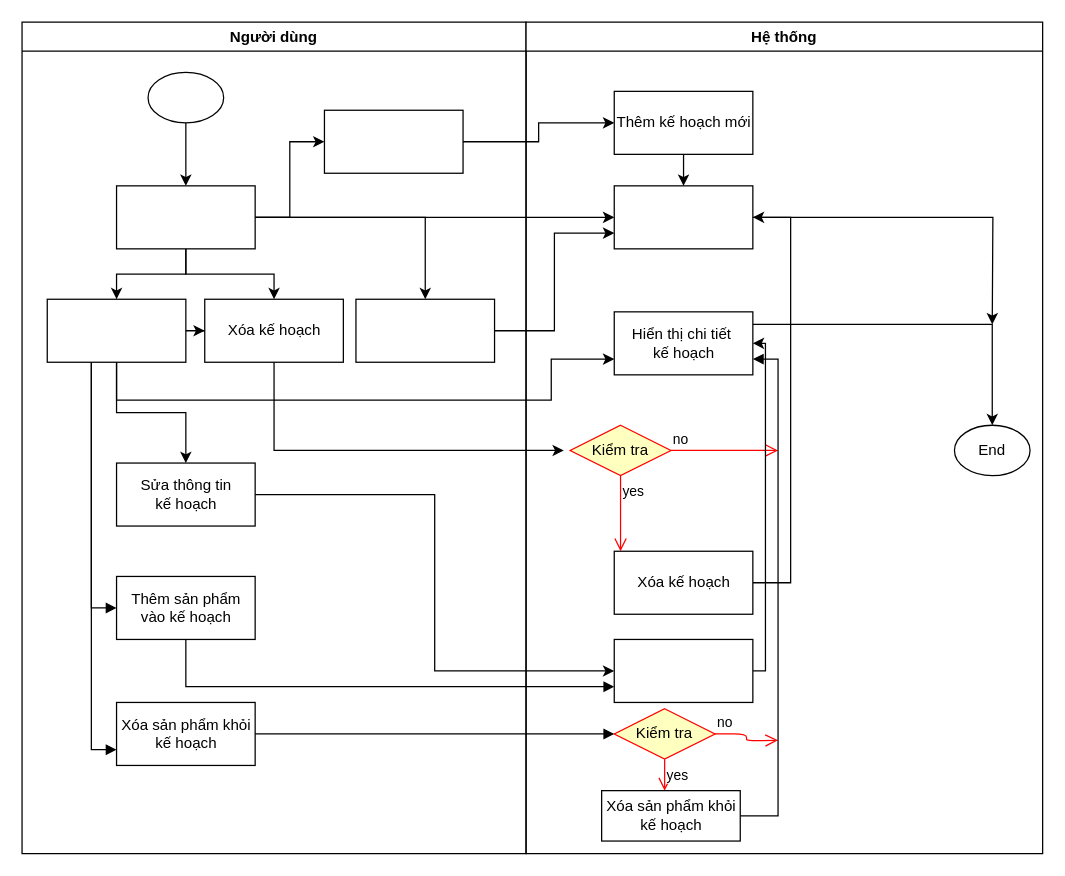
Some shapes in this 1065 by 876 pixel diagram are drawn without their labels. The shapes that lost their labels are listed below. From the top down, each one's centre as x and y in pixels, then its label:
pixel 185 97: Start
pixel 393 141: Tạo kế hoạch mới
pixel 185 217: Xem danh sách kế hoạch
pixel 683 217: Hiển thị danh sách kế hoạch
pixel 116 330: Xem chi tiết kế hoạch
pixel 425 330: Tìm kiếm kế hoạch
pixel 683 670: Cập nhật thông tin kế hoạch
